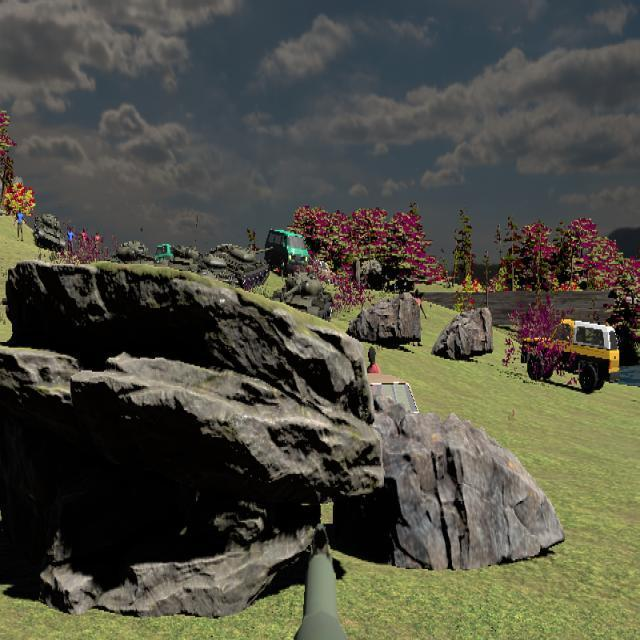Tank: (269, 274, 334, 325), (202, 243, 271, 289), (197, 252, 237, 289), (33, 211, 65, 252), (115, 239, 151, 265)
car: (520, 318, 620, 393), (265, 228, 308, 274)
